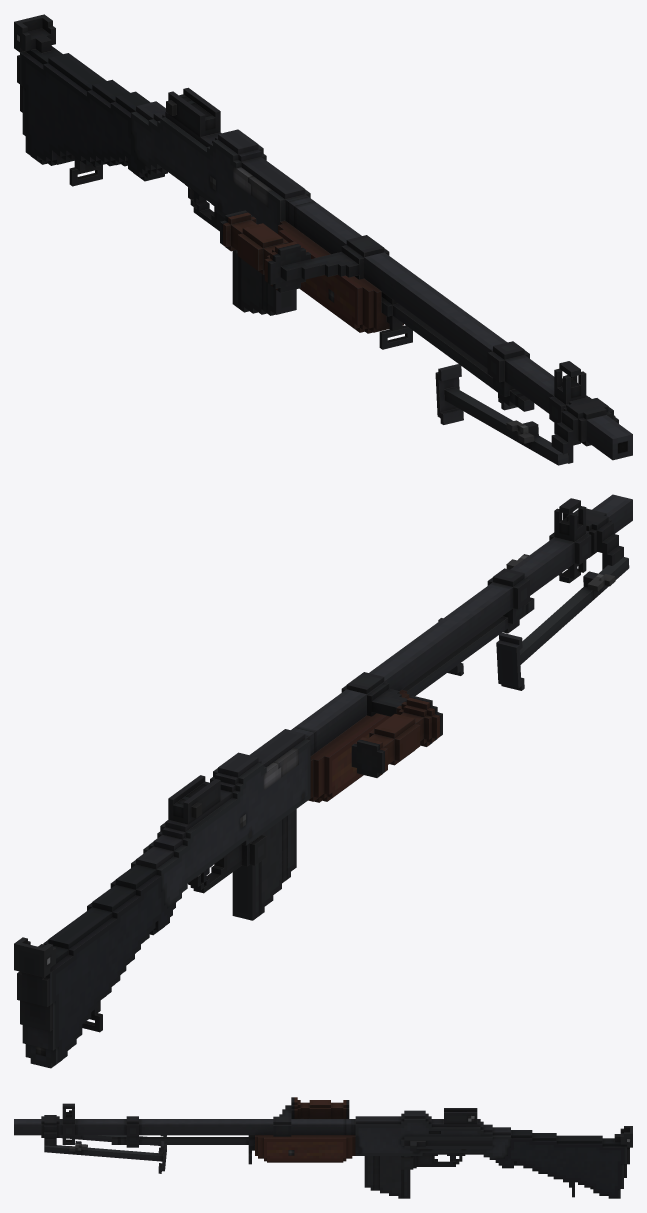
File: RD_BAR.glb
3 renders of one model, top to bottom at view 1: azimuth 30°, elevation 25°; view 2: azimuth 150°, elevation 25°; view 3: azimuth 270°, elevation 25°, orthographic. The views are drawn at different scales.
Visible parts, largest first — view 1: BAR, BAR_GRIP, BAR_DIPOD_LEG1, BAR_CLIP, BAR_DIPOD; view 2: BAR, BAR_GRIP, BAR_CLIP, BAR_DIPOD_LEG1, BAR_DIPOD; view 3: BAR, BAR_CLIP, BAR_GRIP, BAR_DIPOD_LEG2, BAR_BOLT, BAR_DIPOD, BAR_DIPOD_LEG1.
Part boxes in pixels (x1,y1,x2,y2): BAR: [14, 14, 632, 460]; BAR_GRIP: [220, 210, 389, 292]; BAR_DIPOD_LEG1: [435, 364, 568, 465]; BAR_CLIP: [232, 251, 296, 315]; BAR_DIPOD: [551, 397, 618, 463]; BAR: [14, 494, 632, 1068]; BAR_GRIP: [341, 672, 442, 777]; BAR_CLIP: [232, 809, 296, 920]; BAR_DIPOD_LEG1: [496, 557, 629, 690]; BAR_DIPOD: [574, 508, 623, 569]; BAR: [14, 1103, 632, 1198]; BAR_CLIP: [364, 1156, 410, 1198]; BAR_GRIP: [273, 1097, 349, 1136]; BAR_DIPOD_LEG2: [44, 1141, 166, 1173]; BAR_BOLT: [404, 1140, 492, 1151]; BAR_DIPOD: [41, 1115, 59, 1146]; BAR_DIPOD_LEG1: [59, 1135, 166, 1153].
Size of the model in its own units: 0.2559 by 0.3248 by 2.
1 material, 1 textured.
